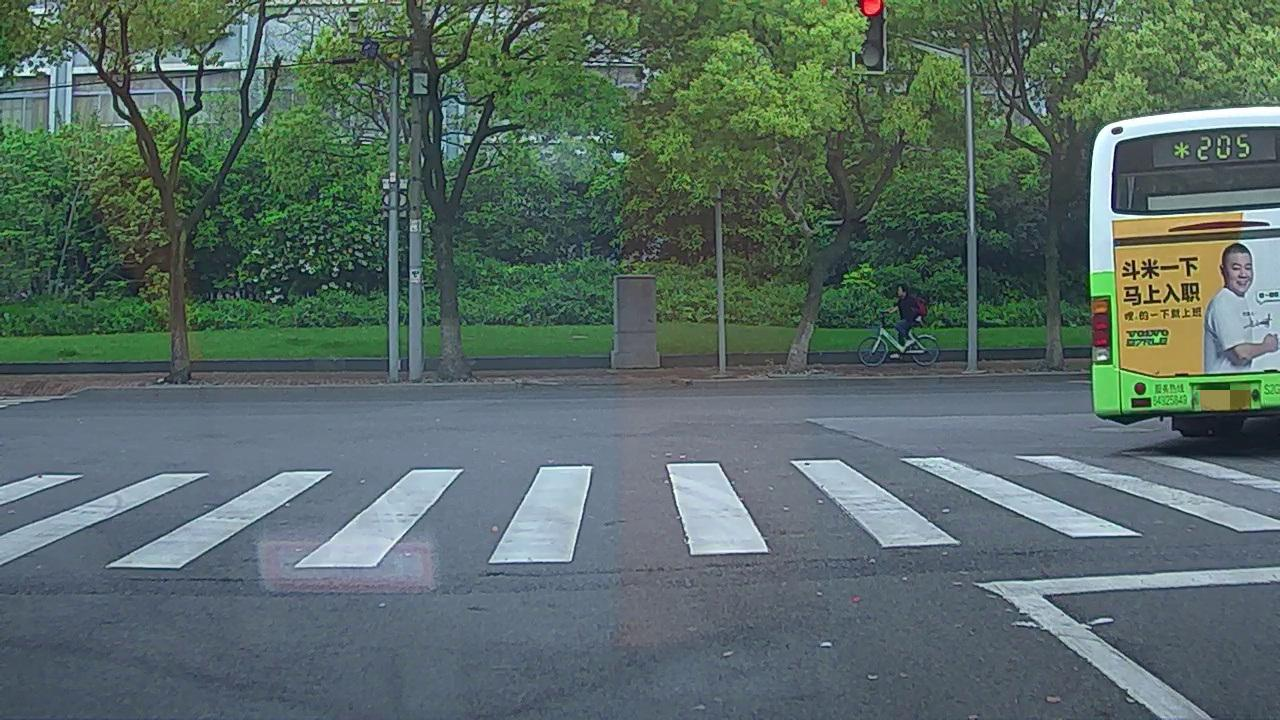traffic_light: (851, 1, 885, 68)
